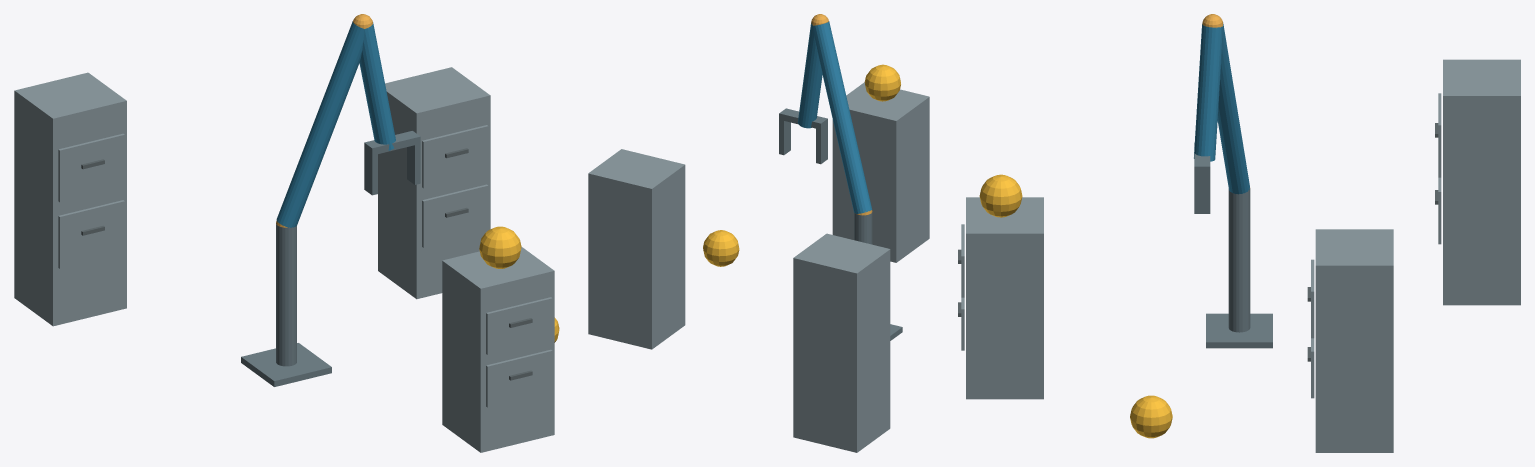
The picture shows the model from 3 angles, left to right: view 1: azimuth 30°, elevation 25°; view 2: azimuth 150°, elevation 25°; view 3: azimuth 270°, elevation 25°; orthographic projection. The views are drawn at different scales.
Visible parts, largest first — view 1: cabinet_3 body, cabinet_1 body, cabinet_2 body, moving link 1, cabinet_3 drawer front.001, cabinet_3 drawer front, cabinet_2 drawer front.001, cabinet_2 drawer front, fixed post, cabinet_1 drawer front, cabinet_1 drawer front.001, moving link 2 (+5 smaller); view 2: cabinet_3 body, cabinet_2 body, cabinet_1 body, moving link 1, moving link 2, ball ball_2, released ball_1, fixed post, gripper finger -1, gripper bridge, gripper finger 1; view 3: cabinet_3 body, cabinet_2 body, cabinet_1 body, fixed post, moving link 2, moving link 1, pedestal, released ball_1, ball ball_2, gripper finger 1.
Boxes of the visible parts, x1=… form: cabinet_3 body: x1=14, y1=72, x2=126, y2=326; cabinet_1 body: x1=442, y1=247, x2=554, y2=452; cabinet_2 body: x1=378, y1=67, x2=490, y2=299; moving link 1: x1=276, y1=21, x2=364, y2=227; cabinet_3 drawer front.001: x1=58, y1=133, x2=124, y2=202; cabinet_3 drawer front: x1=58, y1=200, x2=124, y2=268; cabinet_2 drawer front.001: x1=422, y1=125, x2=488, y2=188; cabinet_2 drawer front: x1=422, y1=184, x2=488, y2=247; fixed post: x1=276, y1=224, x2=296, y2=366; cabinet_1 drawer front: x1=486, y1=349, x2=552, y2=407; cabinet_1 drawer front.001: x1=486, y1=297, x2=552, y2=354; moving link 2: x1=359, y1=22, x2=395, y2=150; cabinet_3 body: x1=793, y1=233, x2=890, y2=452; cabinet_2 body: x1=588, y1=149, x2=685, y2=349; cabinet_1 body: x1=832, y1=82, x2=929, y2=262; moving link 1: x1=813, y1=21, x2=872, y2=213; moving link 2: x1=797, y1=22, x2=822, y2=128; ball ball_2: x1=703, y1=230, x2=739, y2=266; released ball_1: x1=864, y1=64, x2=900, y2=101; fixed post: x1=854, y1=212, x2=872, y2=244; gripper finger -1: x1=816, y1=125, x2=827, y2=164; gripper bridge: x1=779, y1=108, x2=827, y2=129; gripper finger 1: x1=779, y1=119, x2=790, y2=155; cabinet_3 body: x1=1443, y1=59, x2=1520, y2=305; cabinet_2 body: x1=1315, y1=229, x2=1393, y2=452; cabinet_1 body: x1=966, y1=197, x2=1043, y2=399; fixed post: x1=1228, y1=188, x2=1250, y2=332; moving link 2: x1=1194, y1=24, x2=1222, y2=161; moving link 1: x1=1217, y1=22, x2=1249, y2=194; pedestal: x1=1206, y1=313, x2=1272, y2=348; released ball_1: x1=979, y1=174, x2=1022, y2=217; ball ball_2: x1=1130, y1=395, x2=1172, y2=438; gripper finger 1: x1=1194, y1=174, x2=1210, y2=213.
Bounding box in the file's own units: 1.62 × 1.44 × 2.1.
